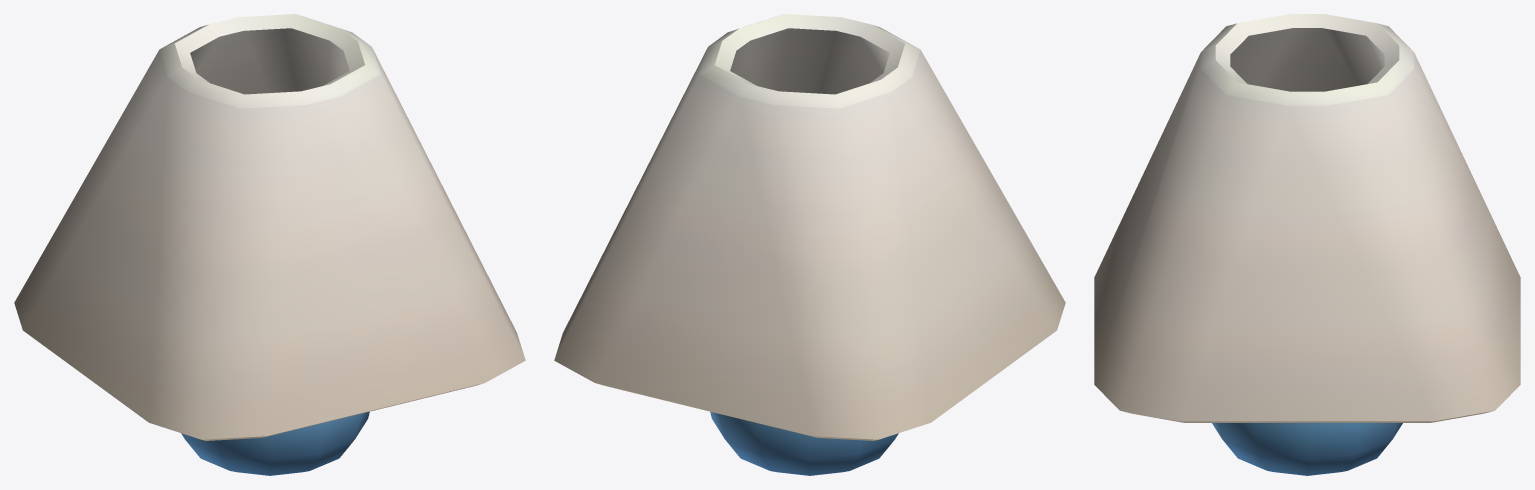
Rendered from kkf.lamp_table.glb.
3 views of the same model, side by side, from view 1: azimuth 30°, elevation 25°; view 2: azimuth 150°, elevation 25°; view 3: azimuth 270°, elevation 25° (orthographic).
Visible parts, largest first — view 1: lamp_table; view 2: lamp_table; view 3: lamp_table.
Part boxes in pixels (x1,y1,x2,y2): lamp_table: (14,14,525,475); lamp_table: (554,14,1065,475); lamp_table: (1094,14,1520,475).
Size of the model in its own units: 0.3577 by 0.3655 by 0.3577.
1 material, 1 textured.
